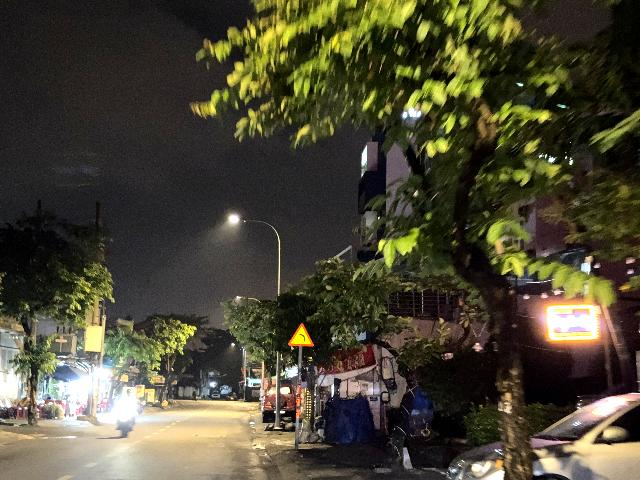cho-ngoat-nguy-hiem-ben-trai: (288, 322, 314, 347)
